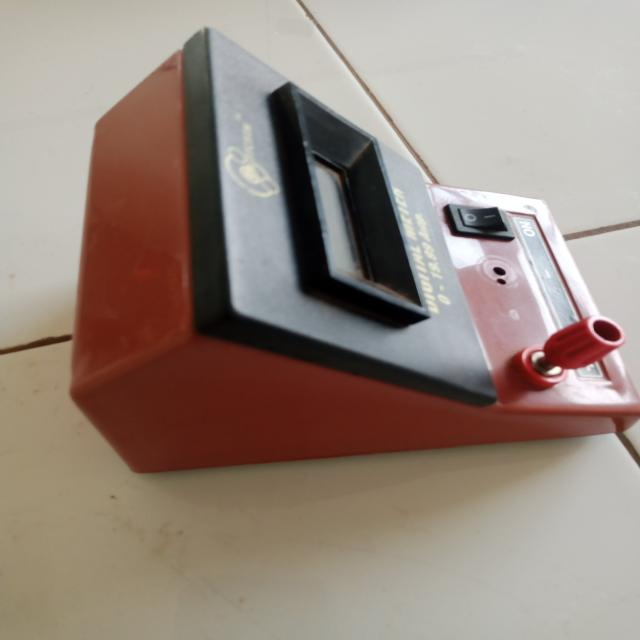Digital Ammeter: (73, 19, 640, 477)
